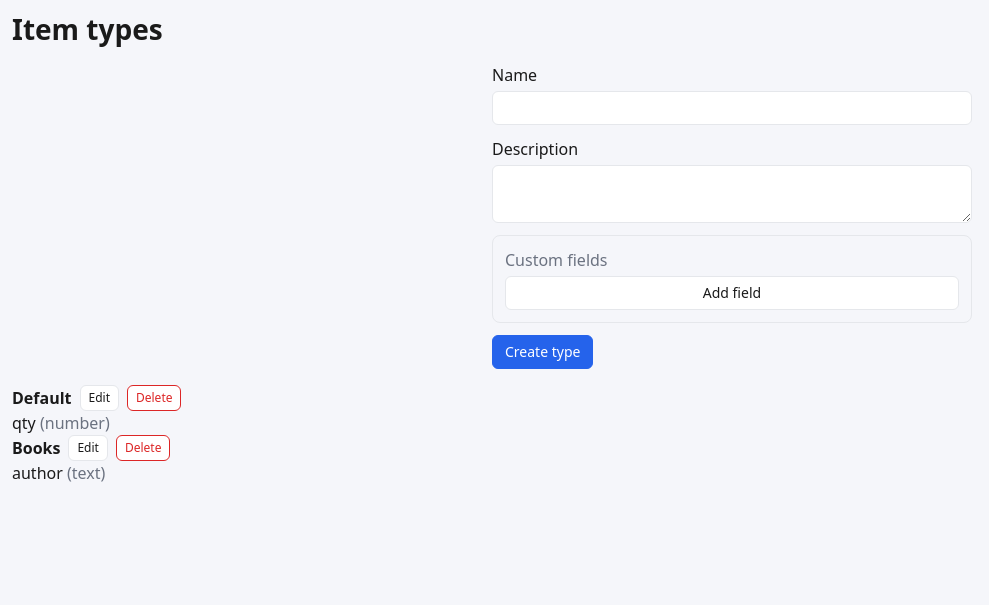
Scenario: item types page › shows only the newly edited type’s fields
The image size is (989, 605).
Click the button "Edit" next to "Default". click: (99, 398)
box: [80, 385, 119, 411]
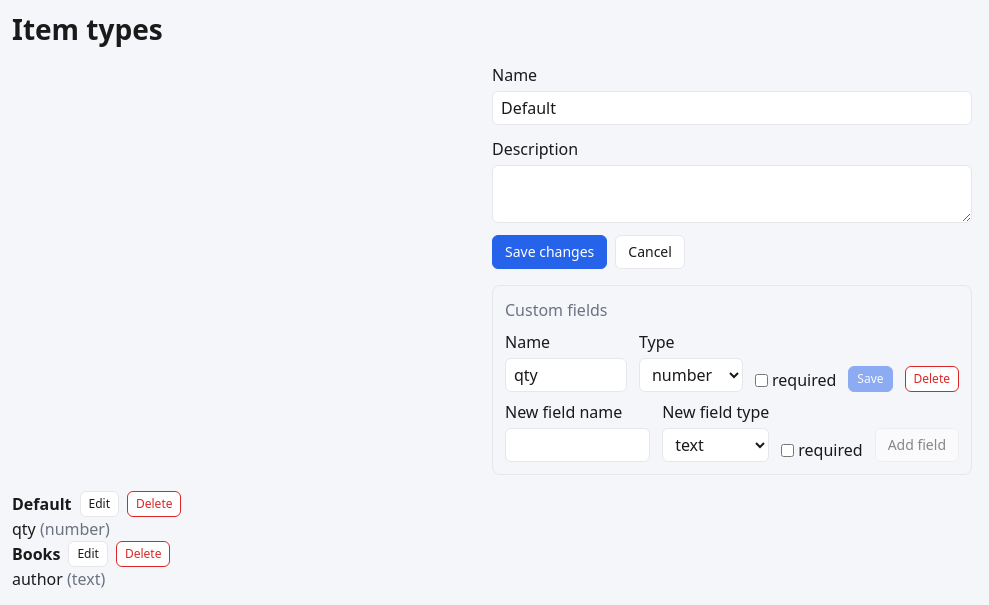
Result: the field showing "qty" below "Custom fields" is shown at [505, 358, 627, 392]
Click the button "Edit" next to "Books". click: (88, 554)
box: [68, 541, 108, 567]
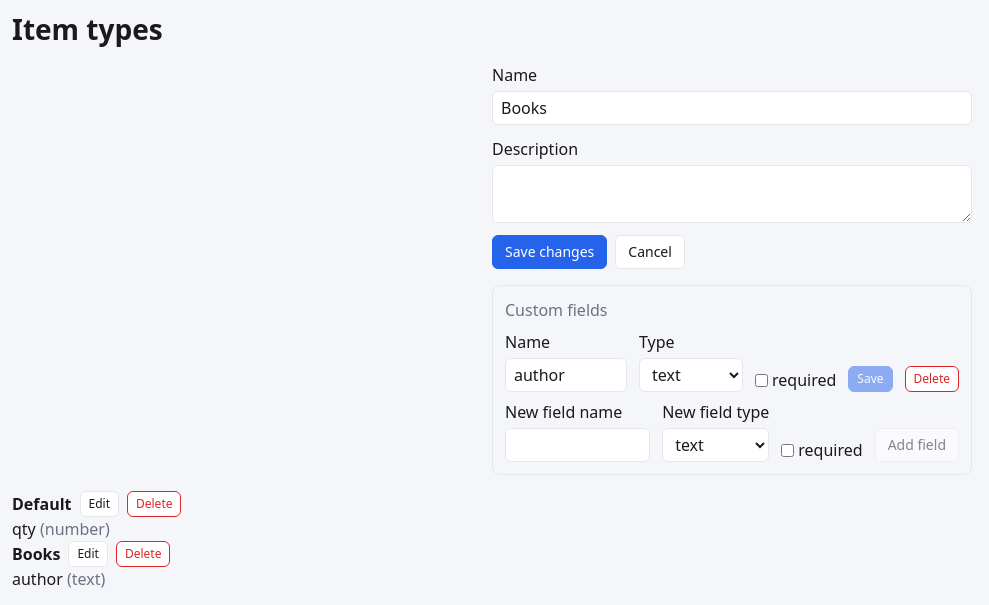
Result: the field showing "author" below "Custom fields" is shown at [505, 358, 627, 392]
